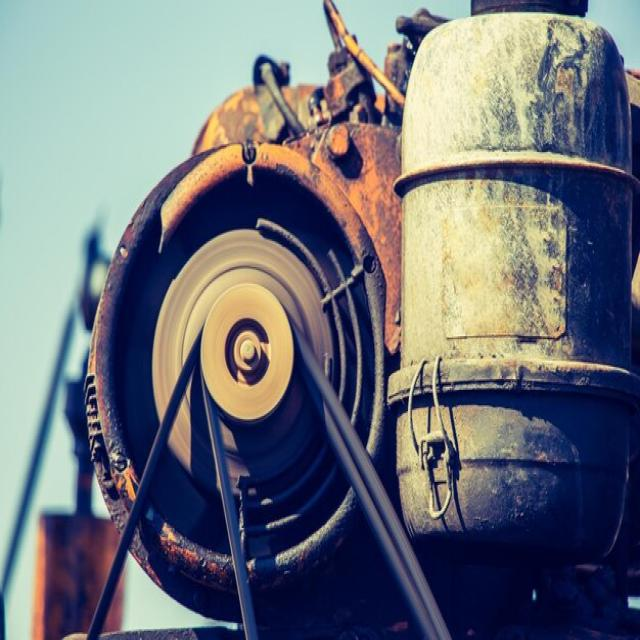compressor: (80, 0, 638, 637)
corrosion detected: (83, 134, 388, 617), (198, 281, 296, 428), (417, 427, 457, 523)
